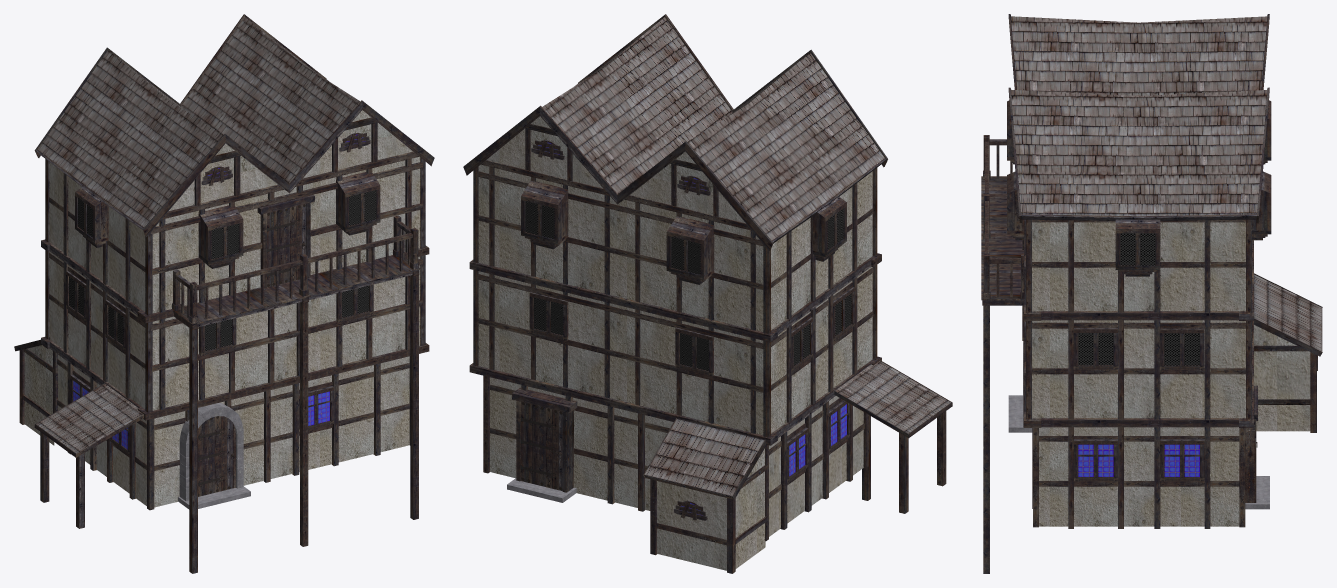
Rendered from house07.dae.
3 renders of one model, left to right at view 1: azimuth 30°, elevation 25°; view 2: azimuth 150°, elevation 25°; view 3: azimuth 270°, elevation 25°, orthographic. The views are drawn at different scales.
Visible parts, largest first — view 1: House2_Roof, House2_Level3, House2_Level2, House2_Level1, House2_Level3_Beams, House2_Level2_Beams, House2_Level1_Beams, Balcony4Stilts, Balcony4, House2_Roof_Frame, Roof2Outer, Balcony4Handles (+24 smaller); view 2: House2_Roof, House2_Level3, House2_Level2, House2_Level1, House2_Level3_Beams, House2_Level2_Beams, House2_Level1_Beams, BuildingExtensions4, BuildingExtensions4Roof, House2_Roof_Frame, Roof2Outer, House2_Level2_SeperatorBeams (+18 smaller); view 3: House2_Roof, House2_Level3, House2_Level2, House2_Level1, House2_Level2_Beams, House2_Level1_Beams, BuildingExtensions4, House2_Level3_Beams, Balcony4, BuildingExtensions4Roof, House2_Level1_SeperatorBeams, House2_Roof_Frame (+20 smaller).
Part boxes in pixels (x1,y1,x2,y2): House2_Roof: (38, 17, 360, 227); House2_Level3: (49, 110, 420, 313); House2_Level2: (49, 251, 420, 410); House2_Level1: (58, 355, 409, 507); House2_Level3_Beams: (45, 117, 425, 315); House2_Level2_Beams: (45, 250, 425, 412); House2_Level1_Beams: (53, 351, 410, 510); Balcony4Stilts: (189, 275, 418, 573); Balcony4: (172, 215, 420, 325); House2_Roof_Frame: (34, 14, 434, 236); Roof2Outer: (36, 384, 142, 453); Balcony4Handles: (176, 221, 412, 318); House2_Roof: (542, 17, 884, 240); House2_Level3: (478, 116, 872, 331); House2_Level2: (478, 267, 872, 435); House2_Level1: (490, 377, 863, 536); House2_Level3_Beams: (473, 124, 877, 333); House2_Level2_Beams: (473, 265, 877, 437); House2_Level1_Beams: (483, 375, 868, 541); BuildingExtensions4: (657, 448, 765, 570); BuildingExtensions4Roof: (645, 419, 764, 495); House2_Roof_Frame: (463, 14, 887, 250); Roof2Outer: (835, 361, 950, 433); House2_Level2_SeperatorBeams: (469, 253, 881, 342); House2_Roof: (1011, 16, 1267, 216); House2_Level3: (1032, 222, 1245, 311); House2_Level2: (1032, 320, 1245, 418); House2_Level1: (1039, 427, 1239, 526); House2_Level2_Beams: (1024, 320, 1251, 419); House2_Level1_Beams: (1032, 427, 1245, 528); BuildingExtensions4: (1254, 325, 1310, 431); House2_Level3_Beams: (1024, 219, 1251, 312); Balcony4: (981, 135, 1024, 300); BuildingExtensions4Roof: (1254, 274, 1321, 351); House2_Level1_SeperatorBeams: (1023, 321, 1253, 427); House2_Roof_Frame: (1008, 14, 1269, 222).
Size of the model in its own units: 10.29 by 7.65 by 11.43.
Materials: 27 (27 with a texture image).
